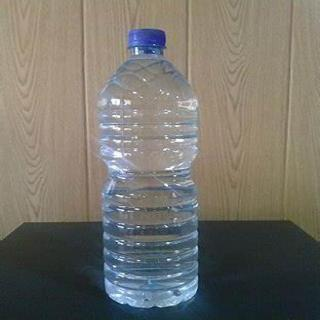Anorganik: (96, 20, 207, 312)
